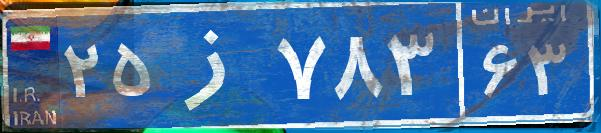2: (57, 26, 110, 107)
3: (385, 28, 445, 110), (525, 38, 570, 115)
5: (110, 28, 158, 105)
6: (475, 38, 525, 113)
7: (273, 28, 330, 110)
8: (330, 28, 385, 110)
ز: (158, 15, 273, 115)
